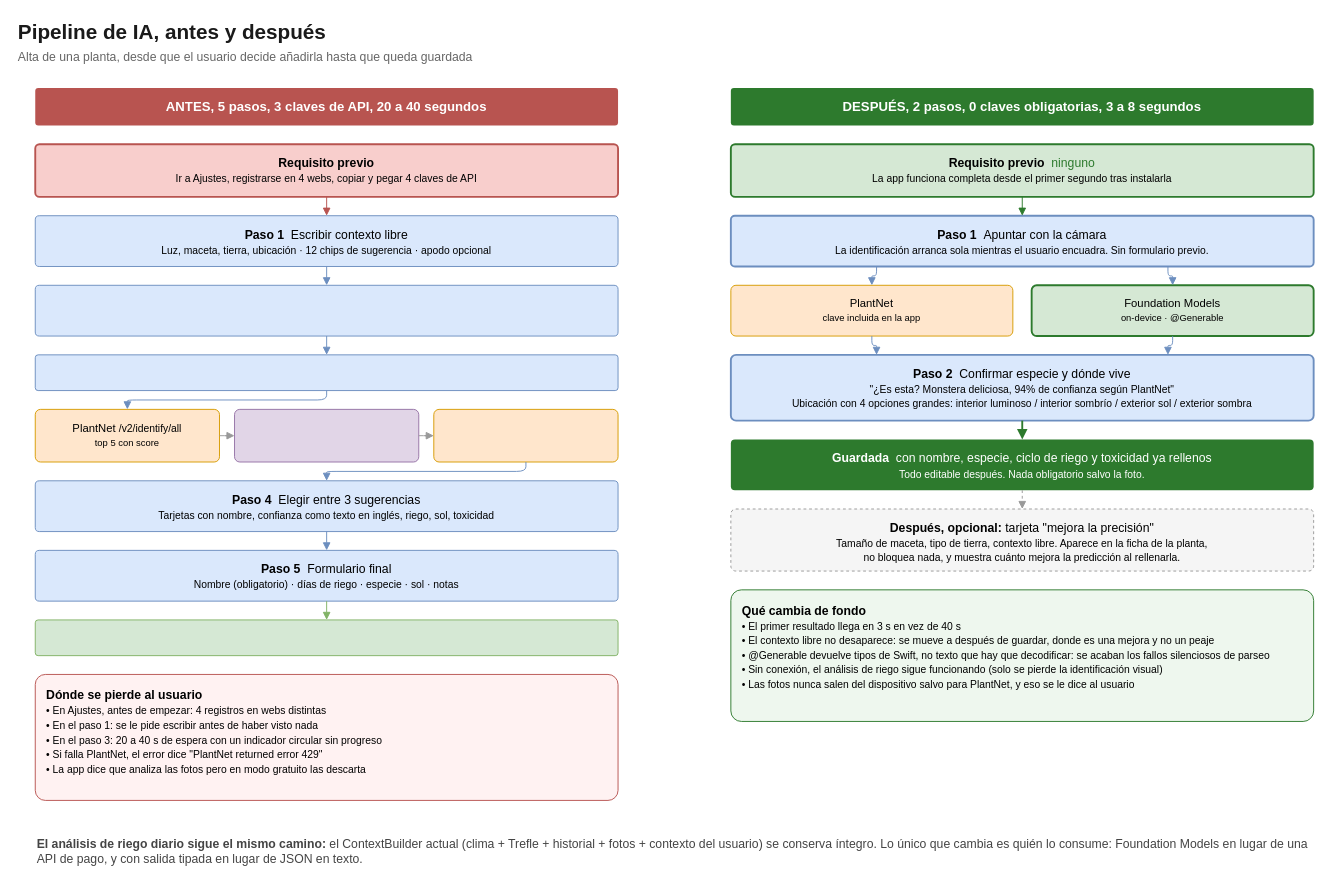
Some shapes in this 1330 by 893 pixel diagram are drawn without their labels. The centre of each missing label's shape, as x and y in pixels:
Guardar: point (326, 637)
LLM confirma y enriquece Groq: ignora las fotos: point (326, 435)
Paso 2 Seleccionar hasta 5 fotos de la fototeca Elegir cuál es la principal: point (326, 310)
Paso 3 Pulsar "Analizar": point (326, 372)
Trefle busca imagen una llamada por sugerencia: point (525, 435)
